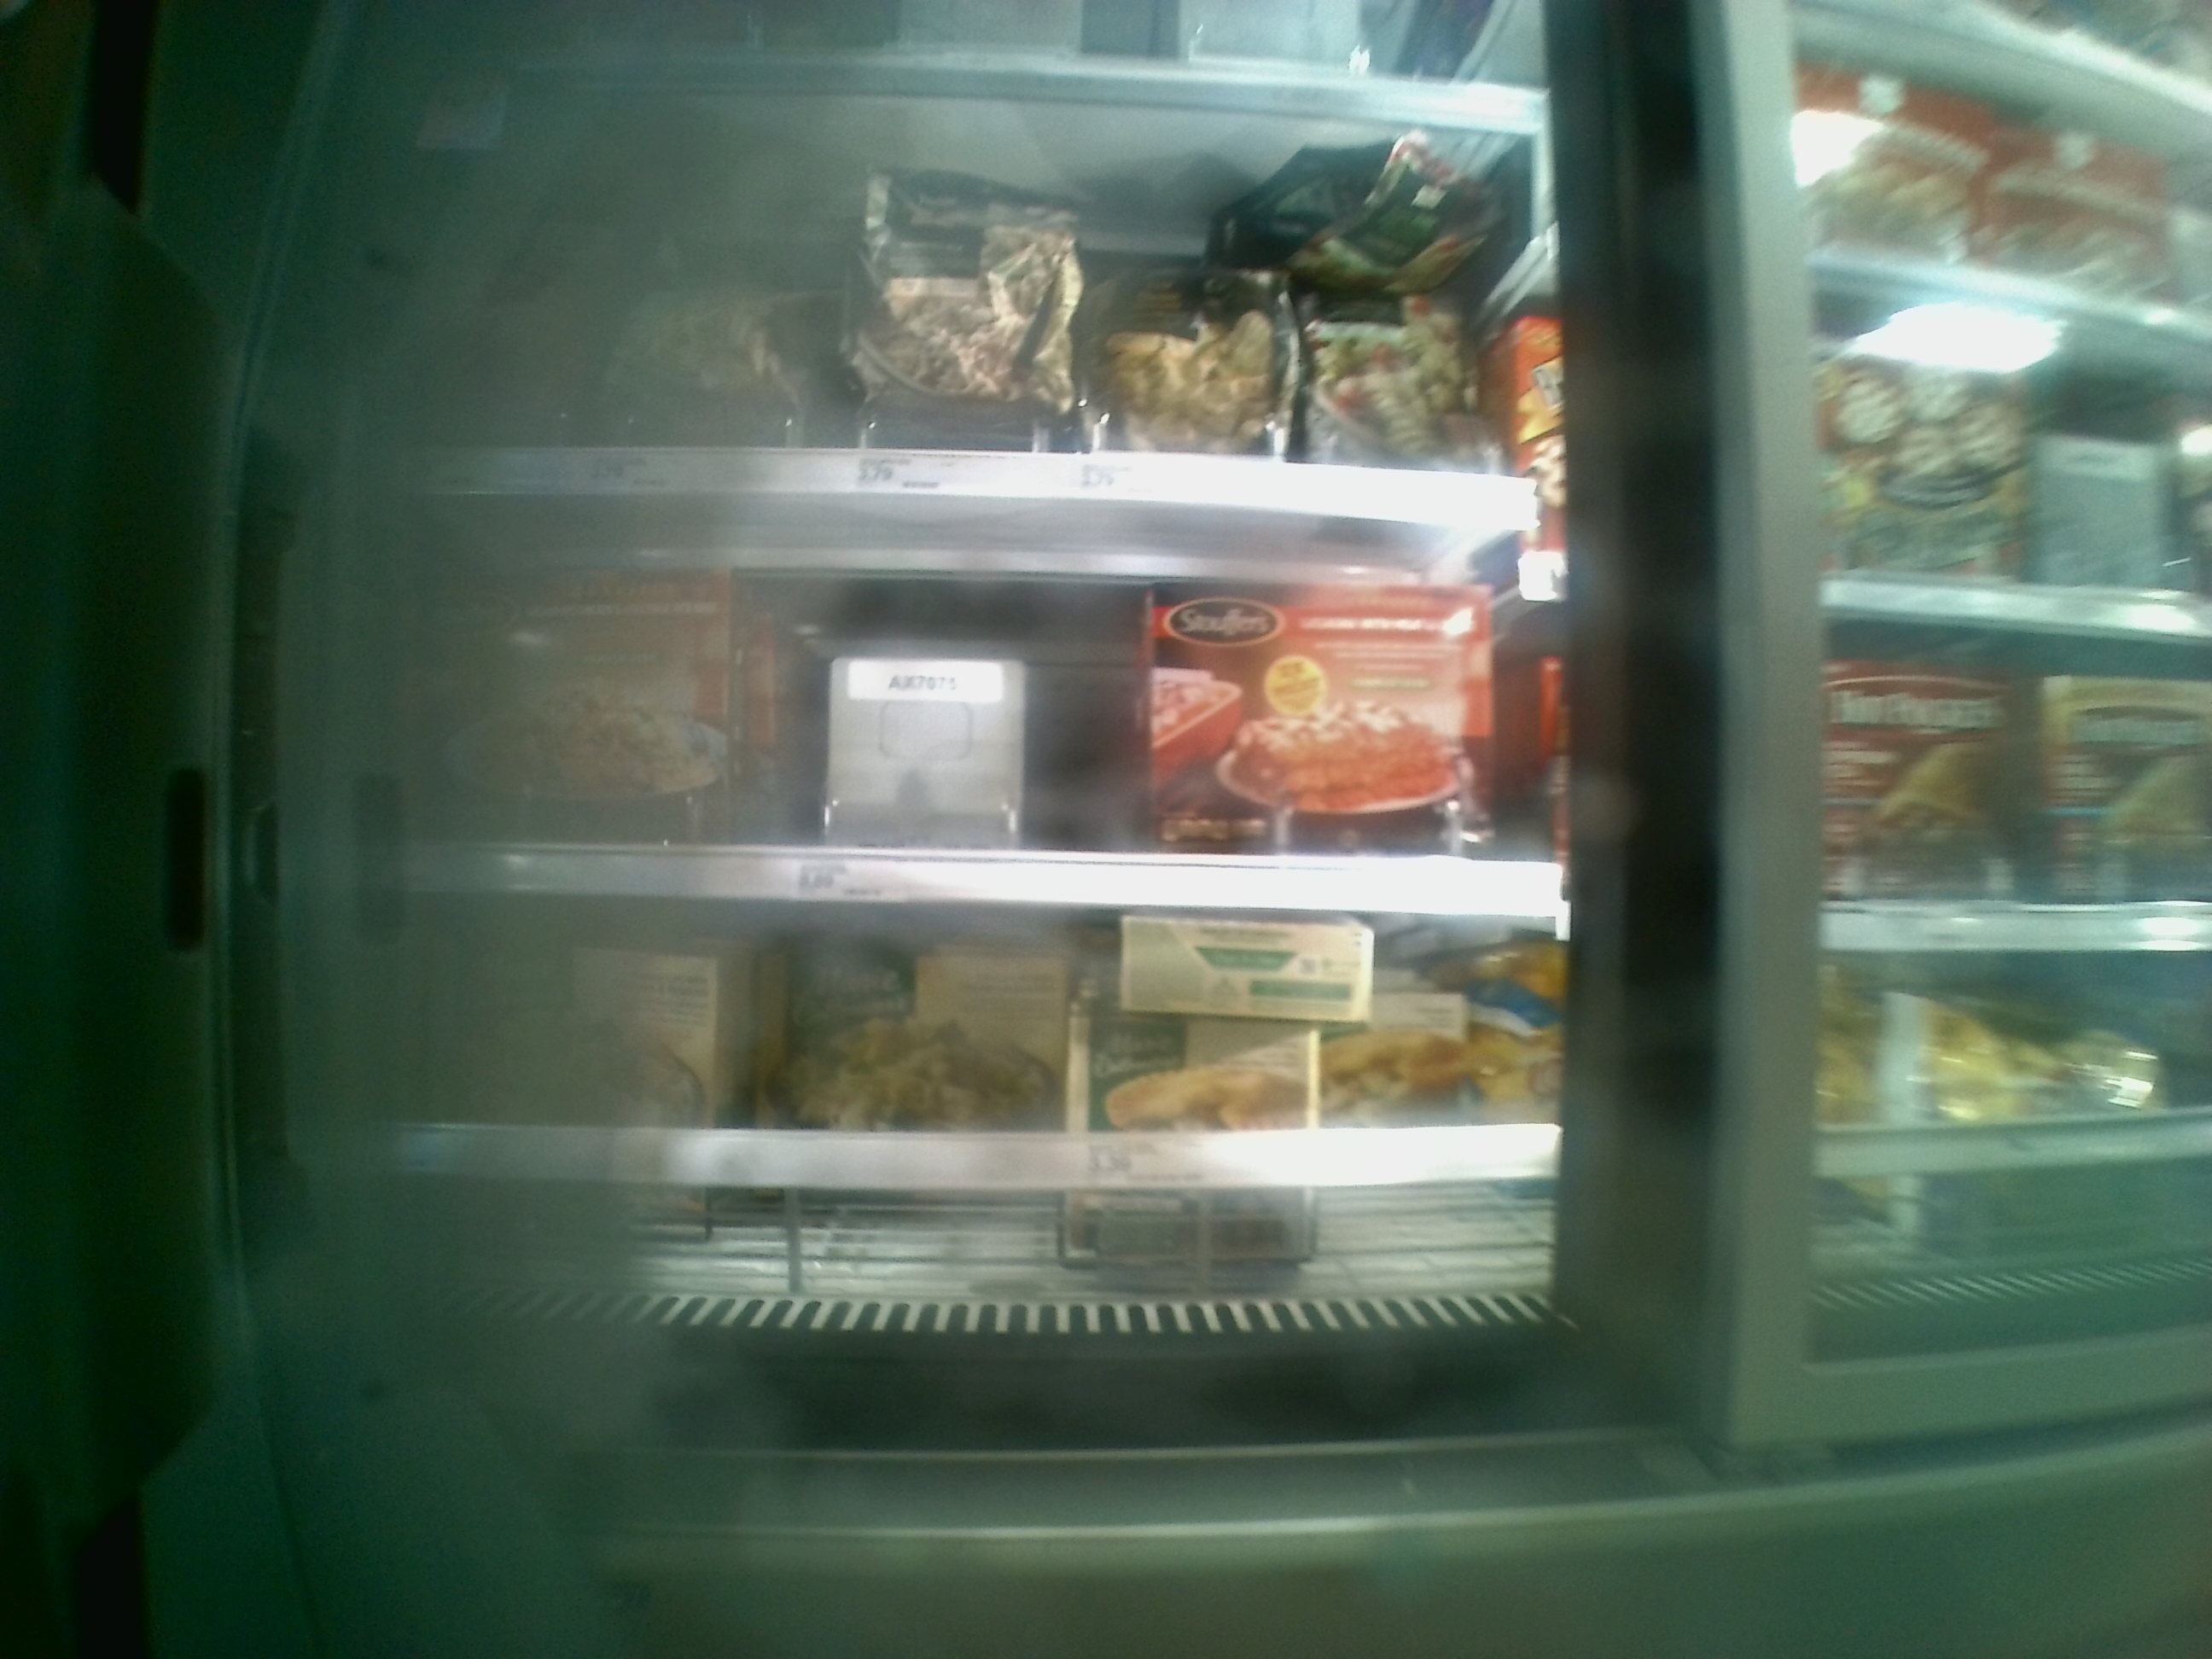shelf: (355, 91, 1568, 509), (385, 505, 1583, 925), (378, 913, 1552, 1305)
